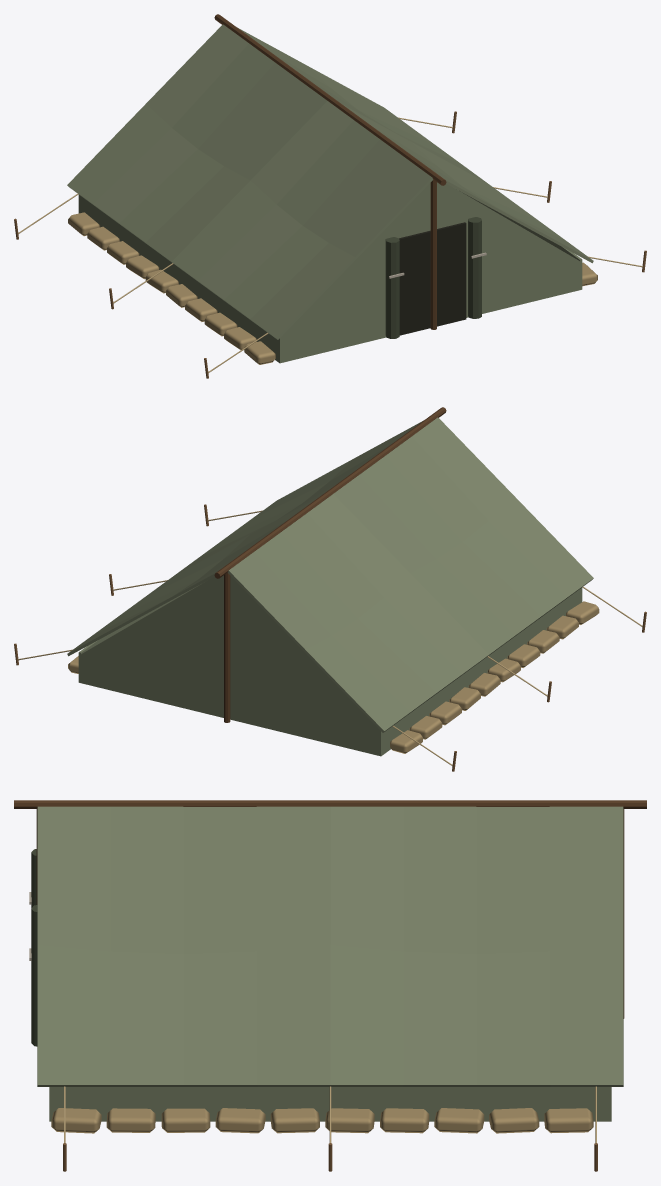
File: TentSmall.glb
3 renders of one model, top to bottom at view 1: azimuth 30°, elevation 25°; view 2: azimuth 150°, elevation 25°; view 3: azimuth 270°, elevation 25°, orthographic. The views are drawn at different scales.
Visible parts, largest first — view 1: TentSmall.001; view 2: TentSmall.001; view 3: TentSmall.001.
Part boxes in pixels (x1,y1,x2,y2): TentSmall.001: [14, 14, 646, 378]; TentSmall.001: [14, 407, 646, 771]; TentSmall.001: [14, 800, 646, 1171].
Bounding box in the file's own units: 9.15 × 3.13 × 8.1.
